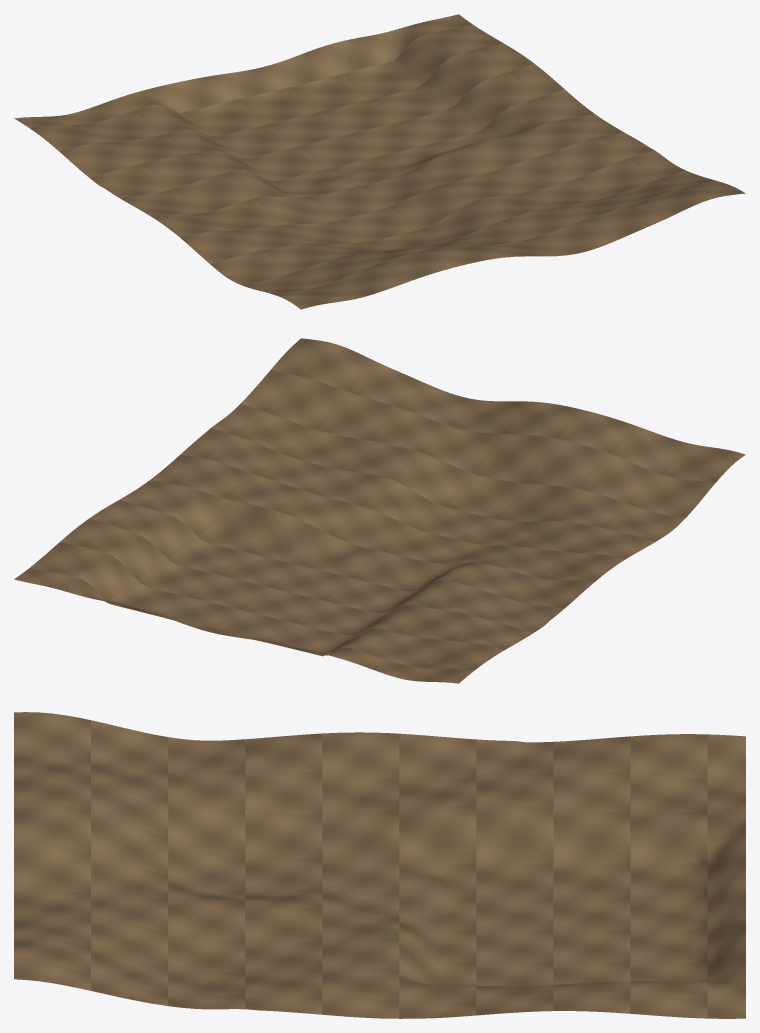
The model's file is Sol_5m_V10.fbx.
3 renders of one model, top to bottom at view 1: azimuth 30°, elevation 25°; view 2: azimuth 150°, elevation 25°; view 3: azimuth 270°, elevation 25°, orthographic. The views are drawn at different scales.
Parts seen in each view (by area): view 1: Sol_5m_V10; view 2: Sol_5m_V10; view 3: Sol_5m_V10.
Part boxes in pixels (x1,y1,x2,y2): Sol_5m_V10: [14, 14, 745, 309]; Sol_5m_V10: [14, 338, 745, 683]; Sol_5m_V10: [14, 712, 745, 1018].
Size of the model in its own units: 1700 by 194 by 1900.
